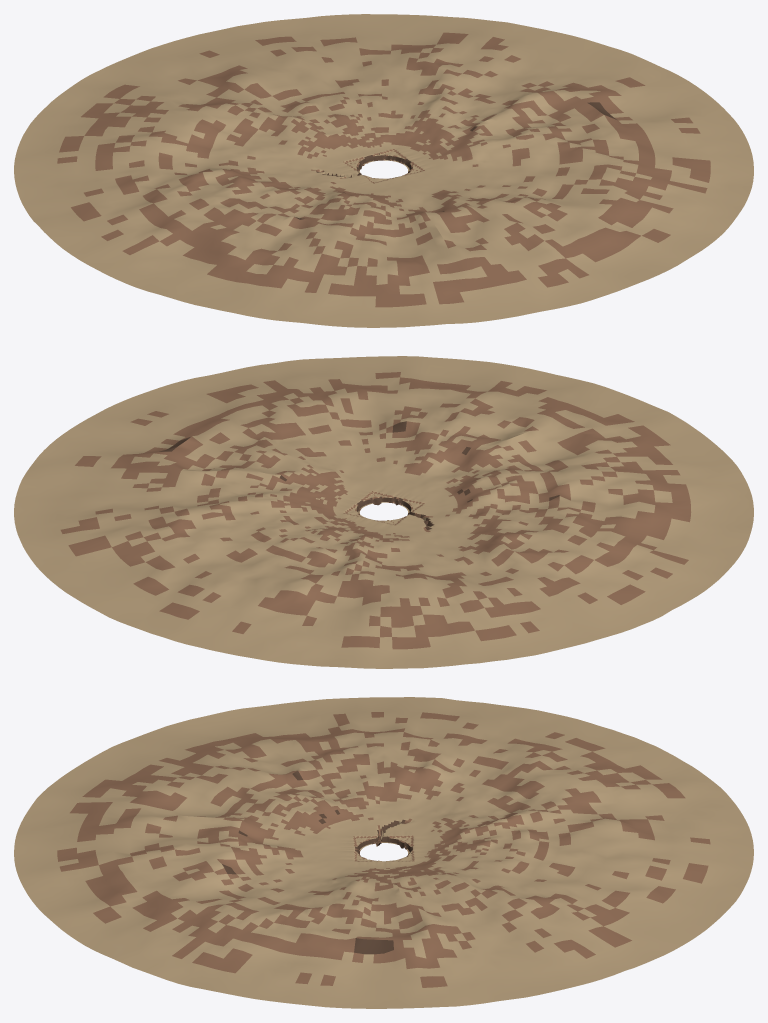
Rendered from Backdrop.fbx.
The picture shows the model from 3 angles, top to bottom: view 1: azimuth 30°, elevation 25°; view 2: azimuth 150°, elevation 25°; view 3: azimuth 270°, elevation 25°; orthographic projection.
Parts seen in each view (by area): view 1: Backdrop; view 2: Backdrop; view 3: Backdrop.
Part boxes in pixels (<box>): Backdrop: <box>14,14,753,327</box>; Backdrop: <box>14,356,753,668</box>; Backdrop: <box>14,697,753,1008</box>.
Bounding box in the file's own units: 40000 × 1274 × 40000.
